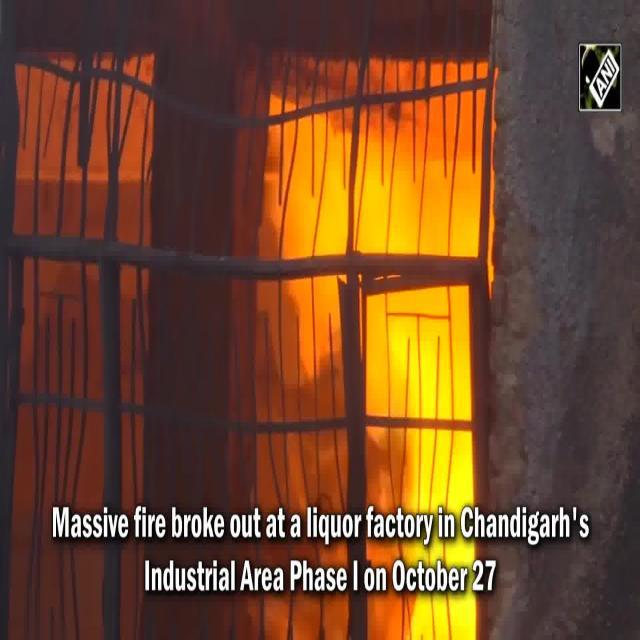Fire: (274, 129, 488, 588)
